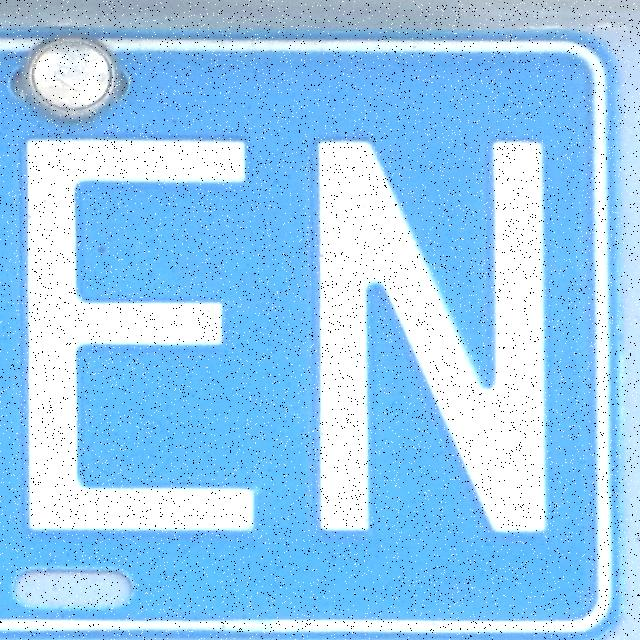licenseplate: (3, 17, 615, 638)
